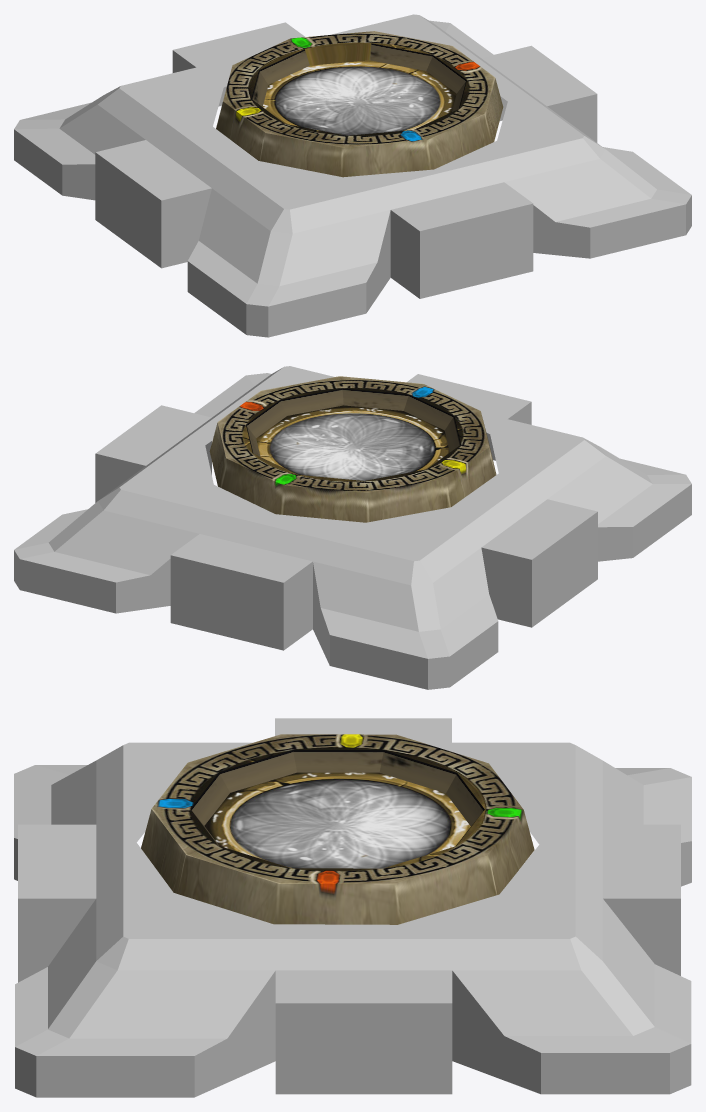
Rendered from MiddlePart.FBX.
3 views of the same model, one above another, from view 1: azimuth 30°, elevation 25°; view 2: azimuth 150°, elevation 25°; view 3: azimuth 270°, elevation 25° (orthographic). The views are drawn at different scales.
Visible parts, largest first — view 1: Box011, Middle_OutsideRing.; view 2: Box011, Middle_OutsideRing.; view 3: Box011, Middle_OutsideRing..
Boxes of the visible parts, box(x1,y1,x2,y2) form: Box011: box(14, 14, 691, 337); Middle_OutsideRing.: box(216, 31, 503, 177); Box011: box(14, 366, 691, 689); Middle_OutsideRing.: box(209, 376, 496, 522); Box011: box(14, 718, 691, 1097); Middle_OutsideRing.: box(141, 734, 534, 924).
Size of the model in its own units: 240 by 236 by 55.44.
